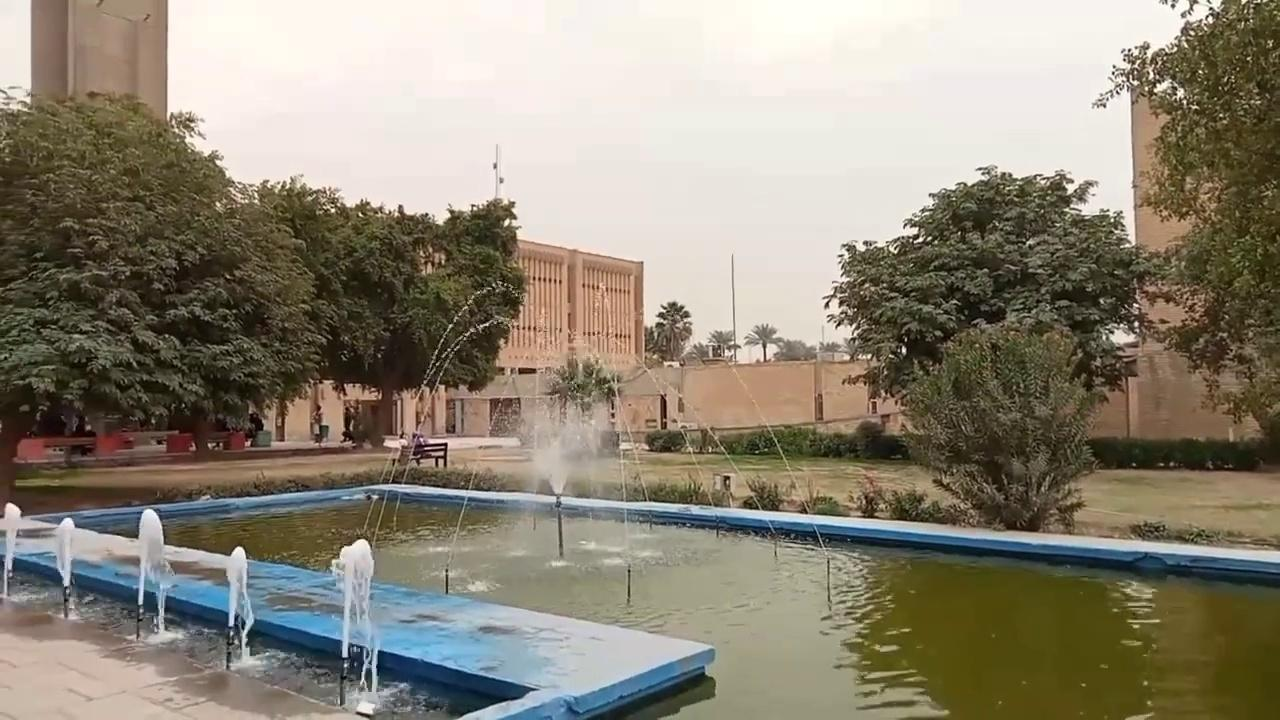fountain: (1, 283, 1277, 717), (1, 502, 715, 718), (329, 537, 381, 713), (525, 396, 602, 505), (133, 507, 178, 643), (222, 544, 255, 652)
person: (340, 404, 354, 443), (248, 411, 264, 445), (311, 403, 323, 445), (411, 430, 425, 465)
tree: (0, 85, 527, 476), (822, 163, 1173, 426), (1090, 0, 1279, 452), (320, 191, 526, 446), (897, 317, 1103, 533), (247, 174, 400, 445), (542, 352, 620, 427), (652, 299, 692, 362), (743, 322, 779, 361), (706, 328, 737, 359), (775, 337, 811, 361)
